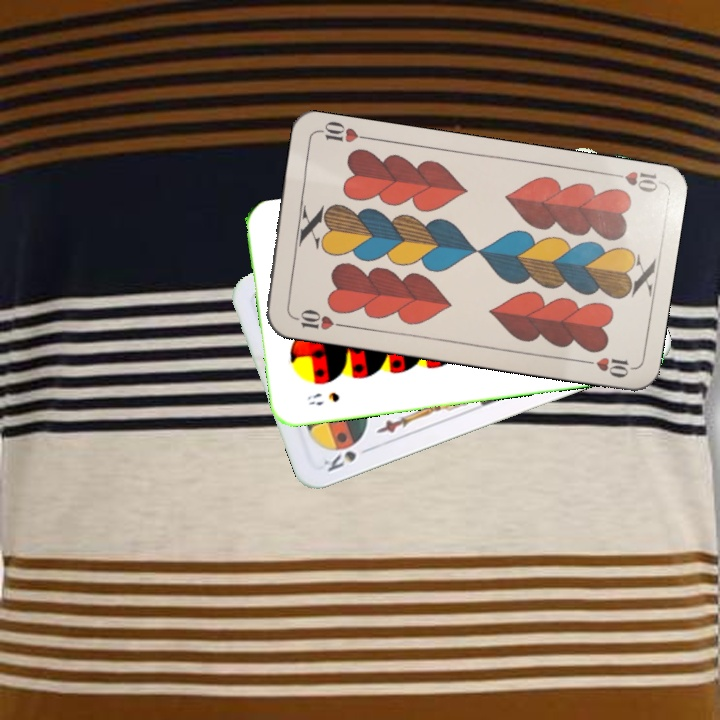H10: (288, 305, 347, 333), (603, 167, 661, 195)
S8: (303, 388, 342, 408)
SK: (319, 443, 375, 475)
